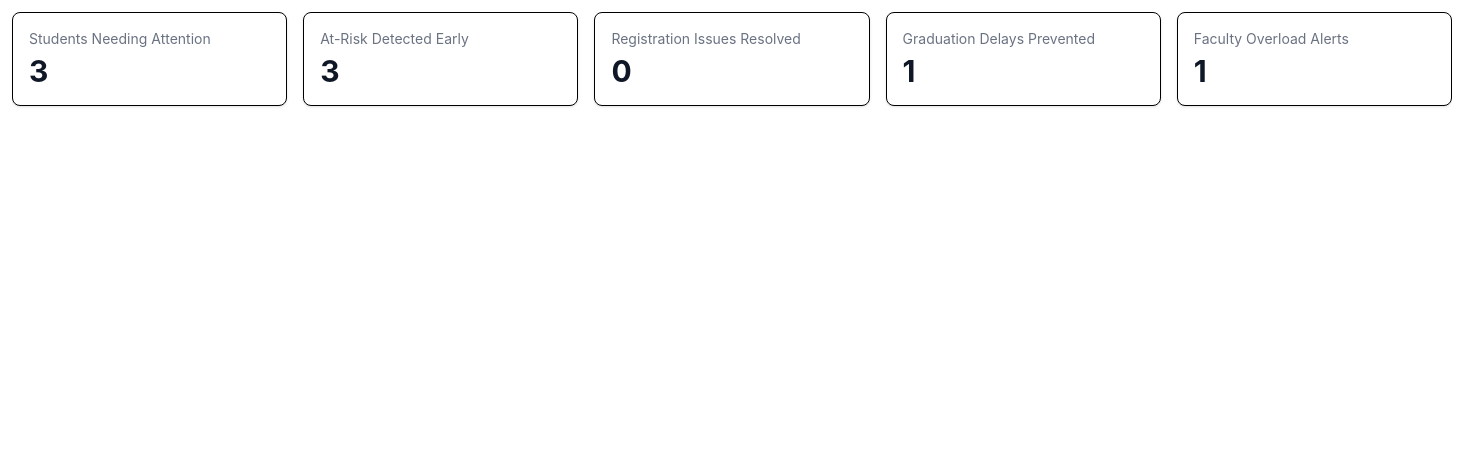
Test case: KpiCards drill-down panel › expands every one of the five cards, each with its own definition and destination
Click the button "Students Needing Attention 3": (120,38) [12,12,287,106]
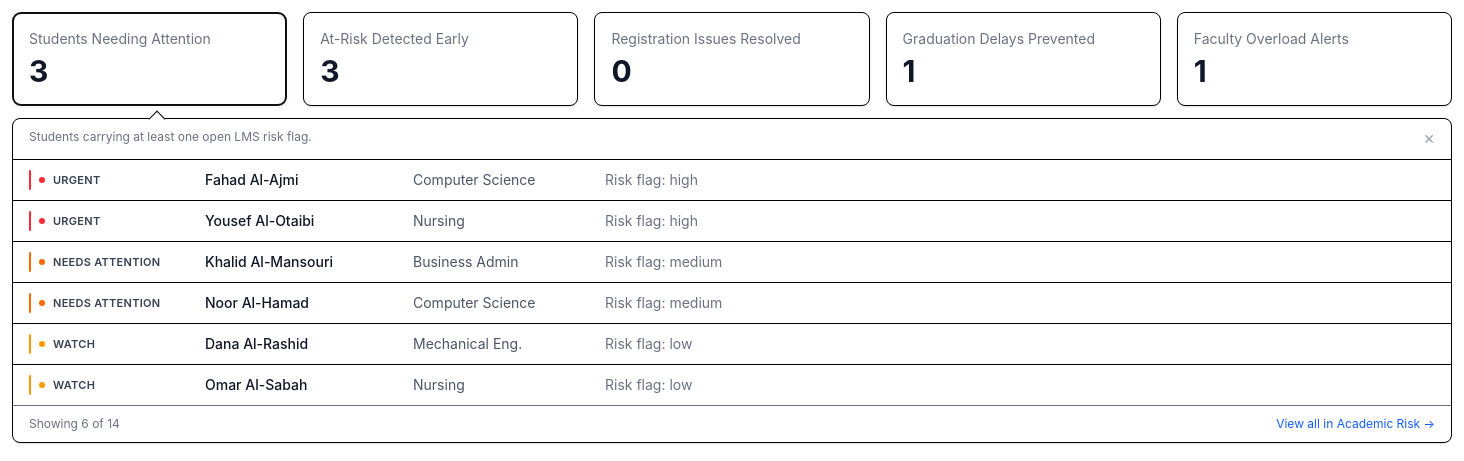
Now the text with test id "drilldown-definition" reads "Students carrying at least one open LMS risk flag.", box [29,129,312,144]
Now the link shows "Academic Risk", box [1276,416,1435,432]
Click the button "At-Risk Detected Early 3": (394,38) [303,12,578,106]
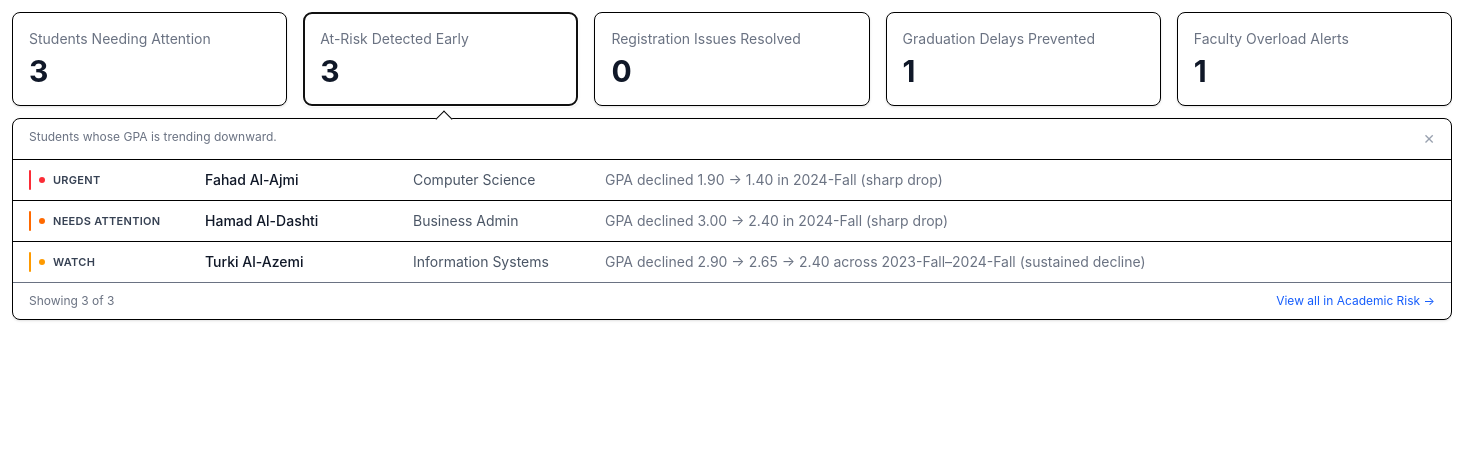
Now the link shows "Academic Risk", box [1276,293,1435,309]
Now the text with test id "drilldown-definition" reads "Students whose GPA is trending downward.", box [29,129,277,144]
Click the button "Registration Issues Resolved 0": (706,38) [594,12,870,106]
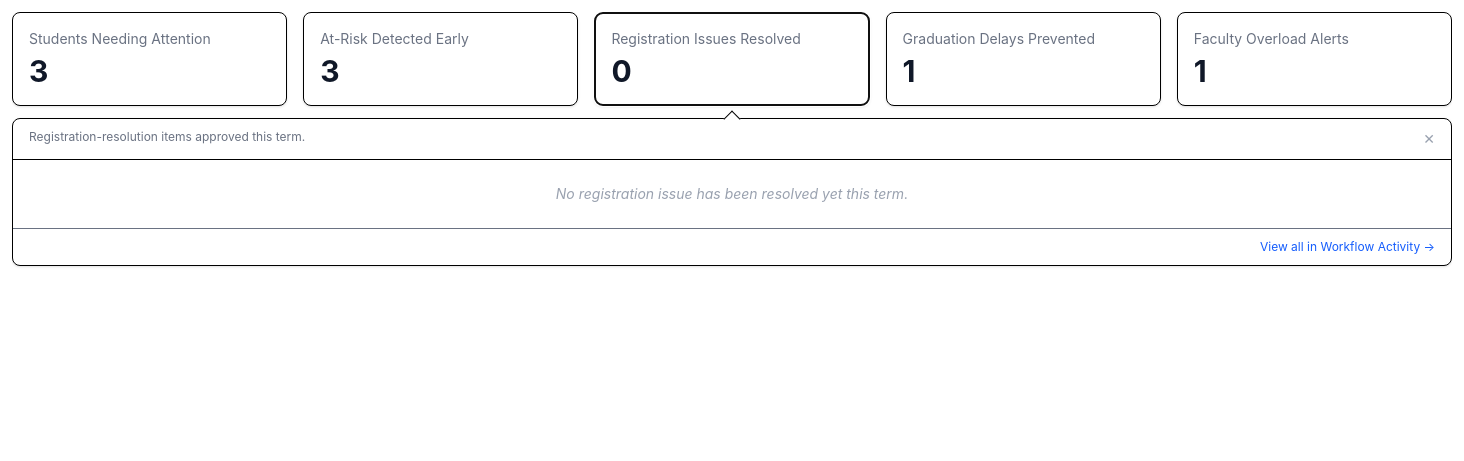
Now the text with test id "drilldown-definition" reads "Registration-resolution items approved this term.", box [29,129,305,144]
Now the link shows "Workflow Activity", box [1260,239,1435,255]
Click the button "Graduation Delays Prevented 1": (999,38) [886,12,1161,106]
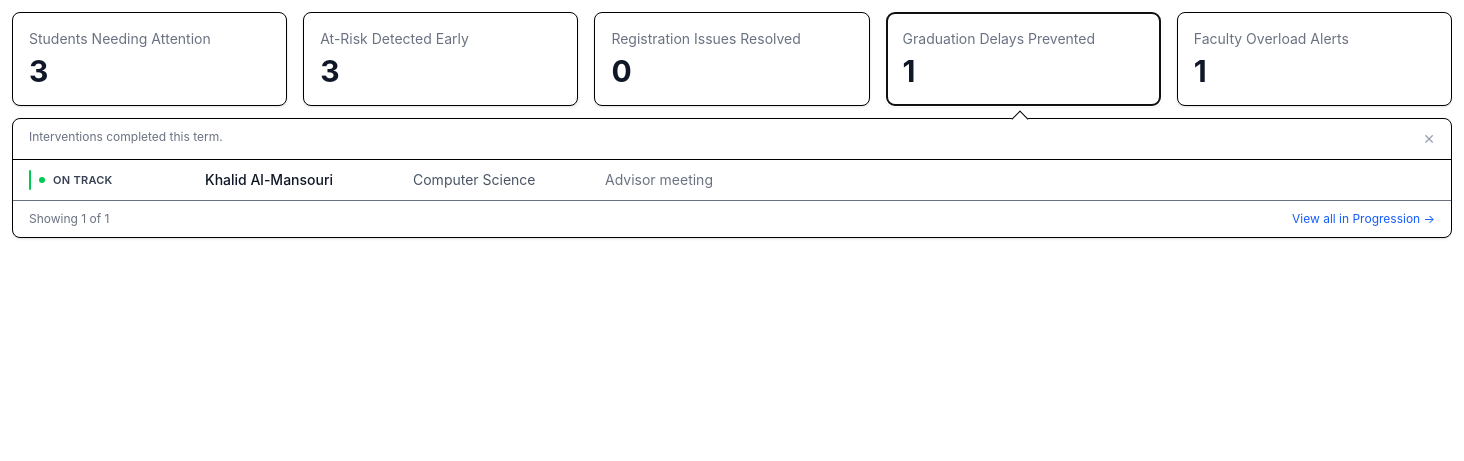
Now the text with test id "drilldown-definition" reads "Interventions completed this term.", box [29,129,223,144]
Now the link shows "Progression", box [1292,211,1435,227]
Click the button "Faculty Overload Alerts 1": (1271,38) [1177,12,1452,106]
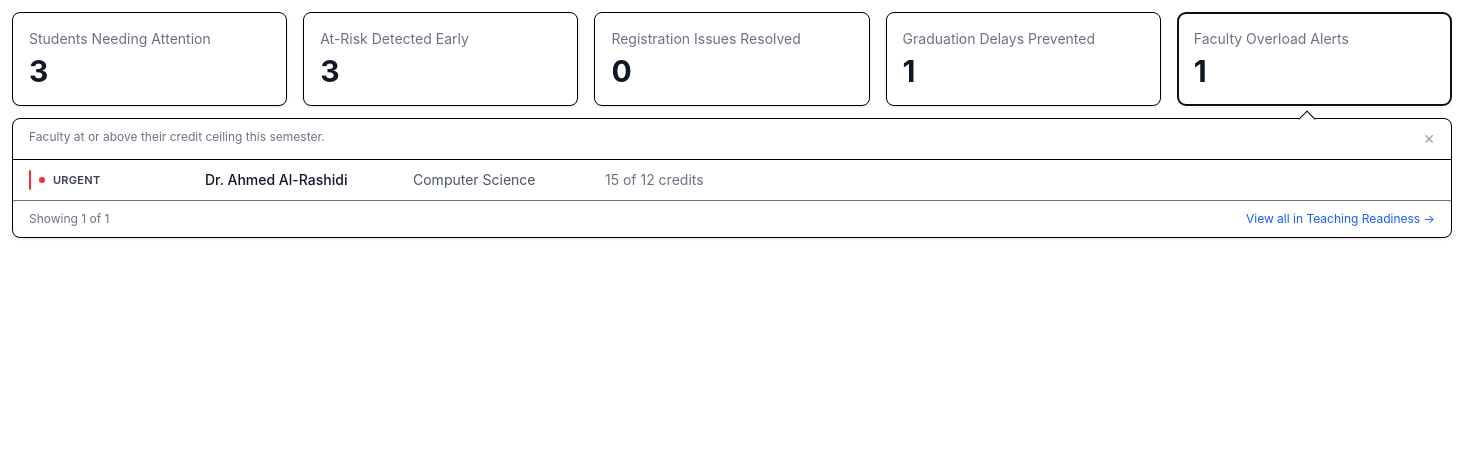
Now the text with test id "drilldown-definition" reads "Faculty at or above their credit ceiling this semester.", box [29,129,325,144]
Now the link shows "Teaching Readiness", box [1246,211,1435,227]
